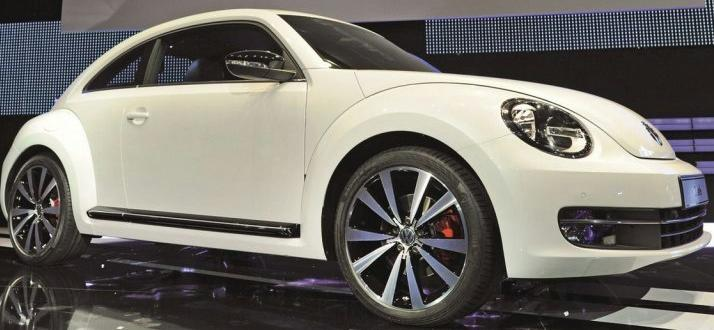front_view: (498, 76, 714, 271)
headlight: (489, 86, 610, 176)
side_glass: (85, 25, 306, 95)
